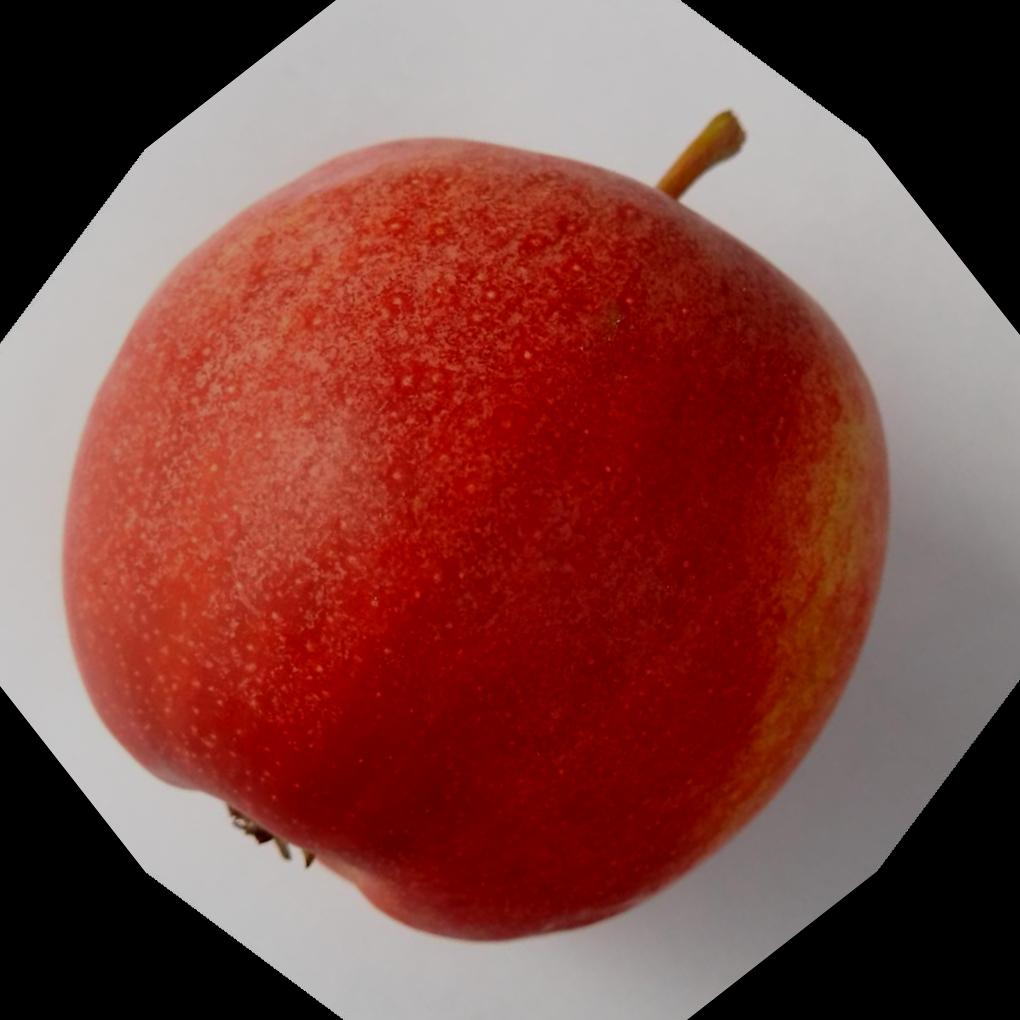FreshGuava: (60, 136, 895, 948)
